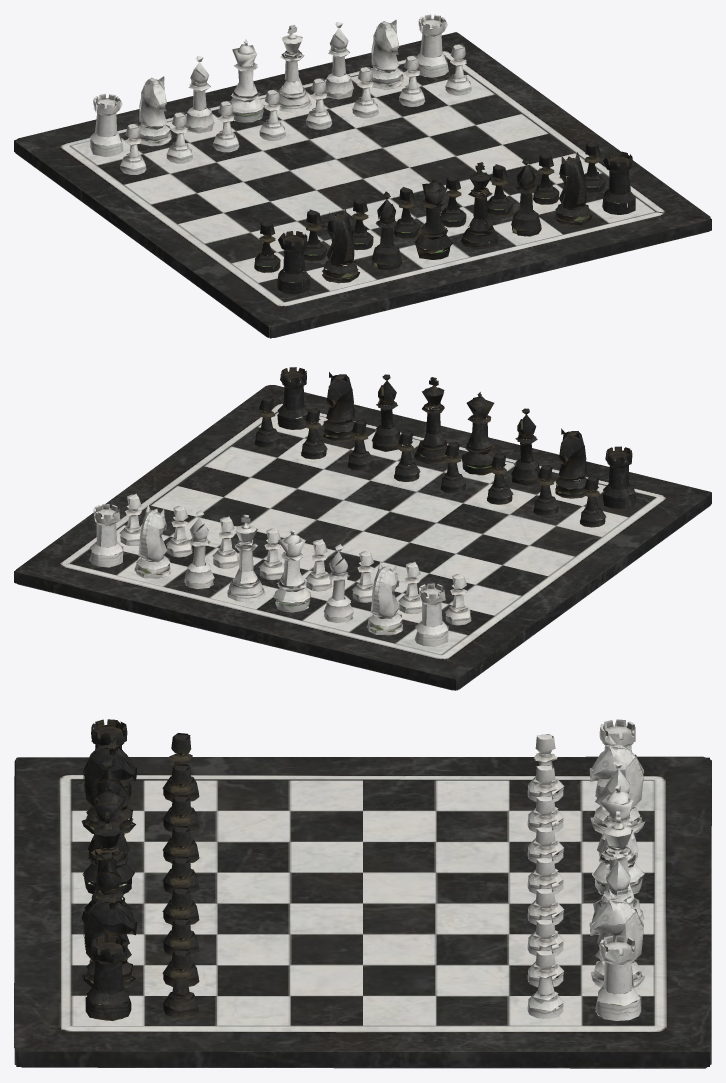
Rendered from chess_set.glb.
The picture shows the model from 3 angles, top to bottom: view 1: azimuth 30°, elevation 25°; view 2: azimuth 150°, elevation 25°; view 3: azimuth 270°, elevation 25°; orthographic projection. The views are drawn at different scales.
Parts seen in each view (by area): view 1: piece_rook_white_01; view 2: piece_rook_white_01; view 3: piece_rook_white_01.
Boxes of the visible parts, bbox=[...] form: piece_rook_white_01: bbox=[14, 14, 711, 338]; piece_rook_white_01: bbox=[14, 367, 711, 690]; piece_rook_white_01: bbox=[14, 719, 711, 1068].
Bounding box in the file's own units: 0.5543 × 0.1112 × 0.554.
3 materials, 3 textured.
